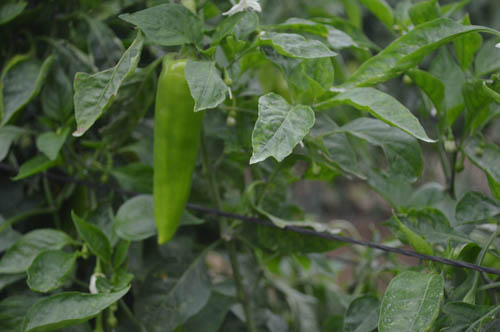ChiliPepper: (152, 57, 203, 243)
